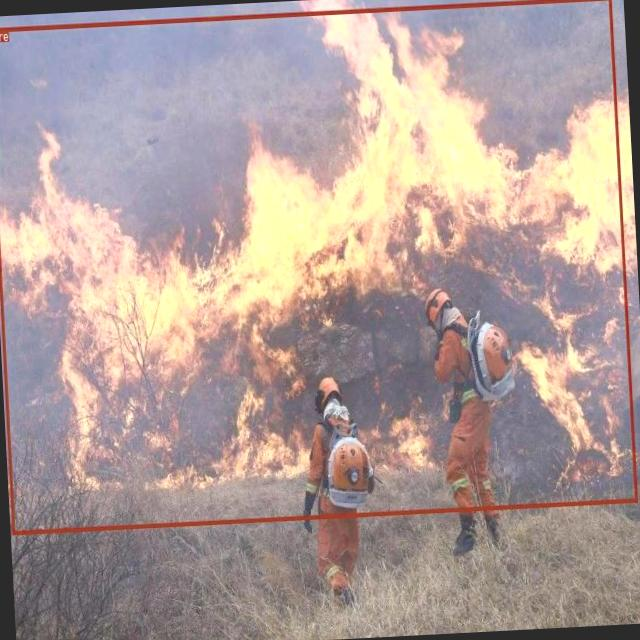fire: (0, 0, 637, 534)
